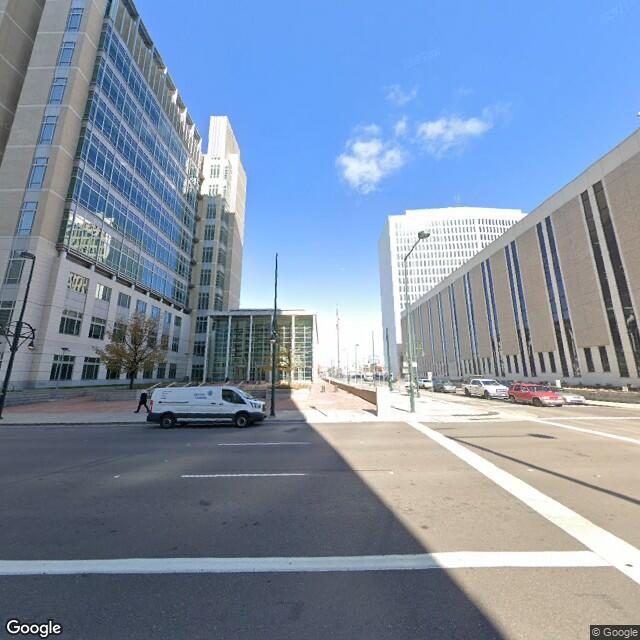lamp: (398, 228, 435, 409)
